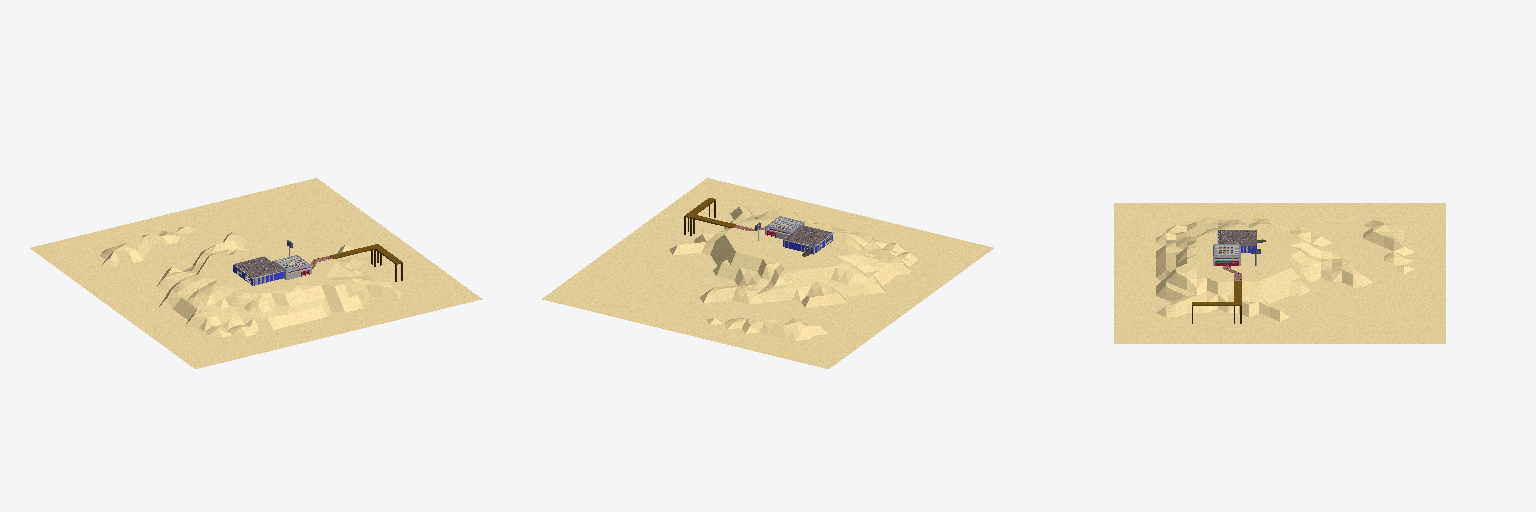
3 renders of one model, left to right at view 1: azimuth 30°, elevation 25°; view 2: azimuth 150°, elevation 25°; view 3: azimuth 270°, elevation 25°, orthographic.
Visible parts, largest first — view 1: slot231, slot202; view 2: slot231, slot202; view 3: slot231, slot202.
Part boxes in pixels (x1,y1,x2,y2): slot231: (30,178,481,368); slot202: (234,257,282,277); slot231: (542,178,993,368); slot202: (783,225,831,246); slot231: (1114,203,1445,343); slot202: (1218,230,1256,245).
Bounding box in the file's own units: 2048 × 240 × 2048.
44 materials, 26 textured.